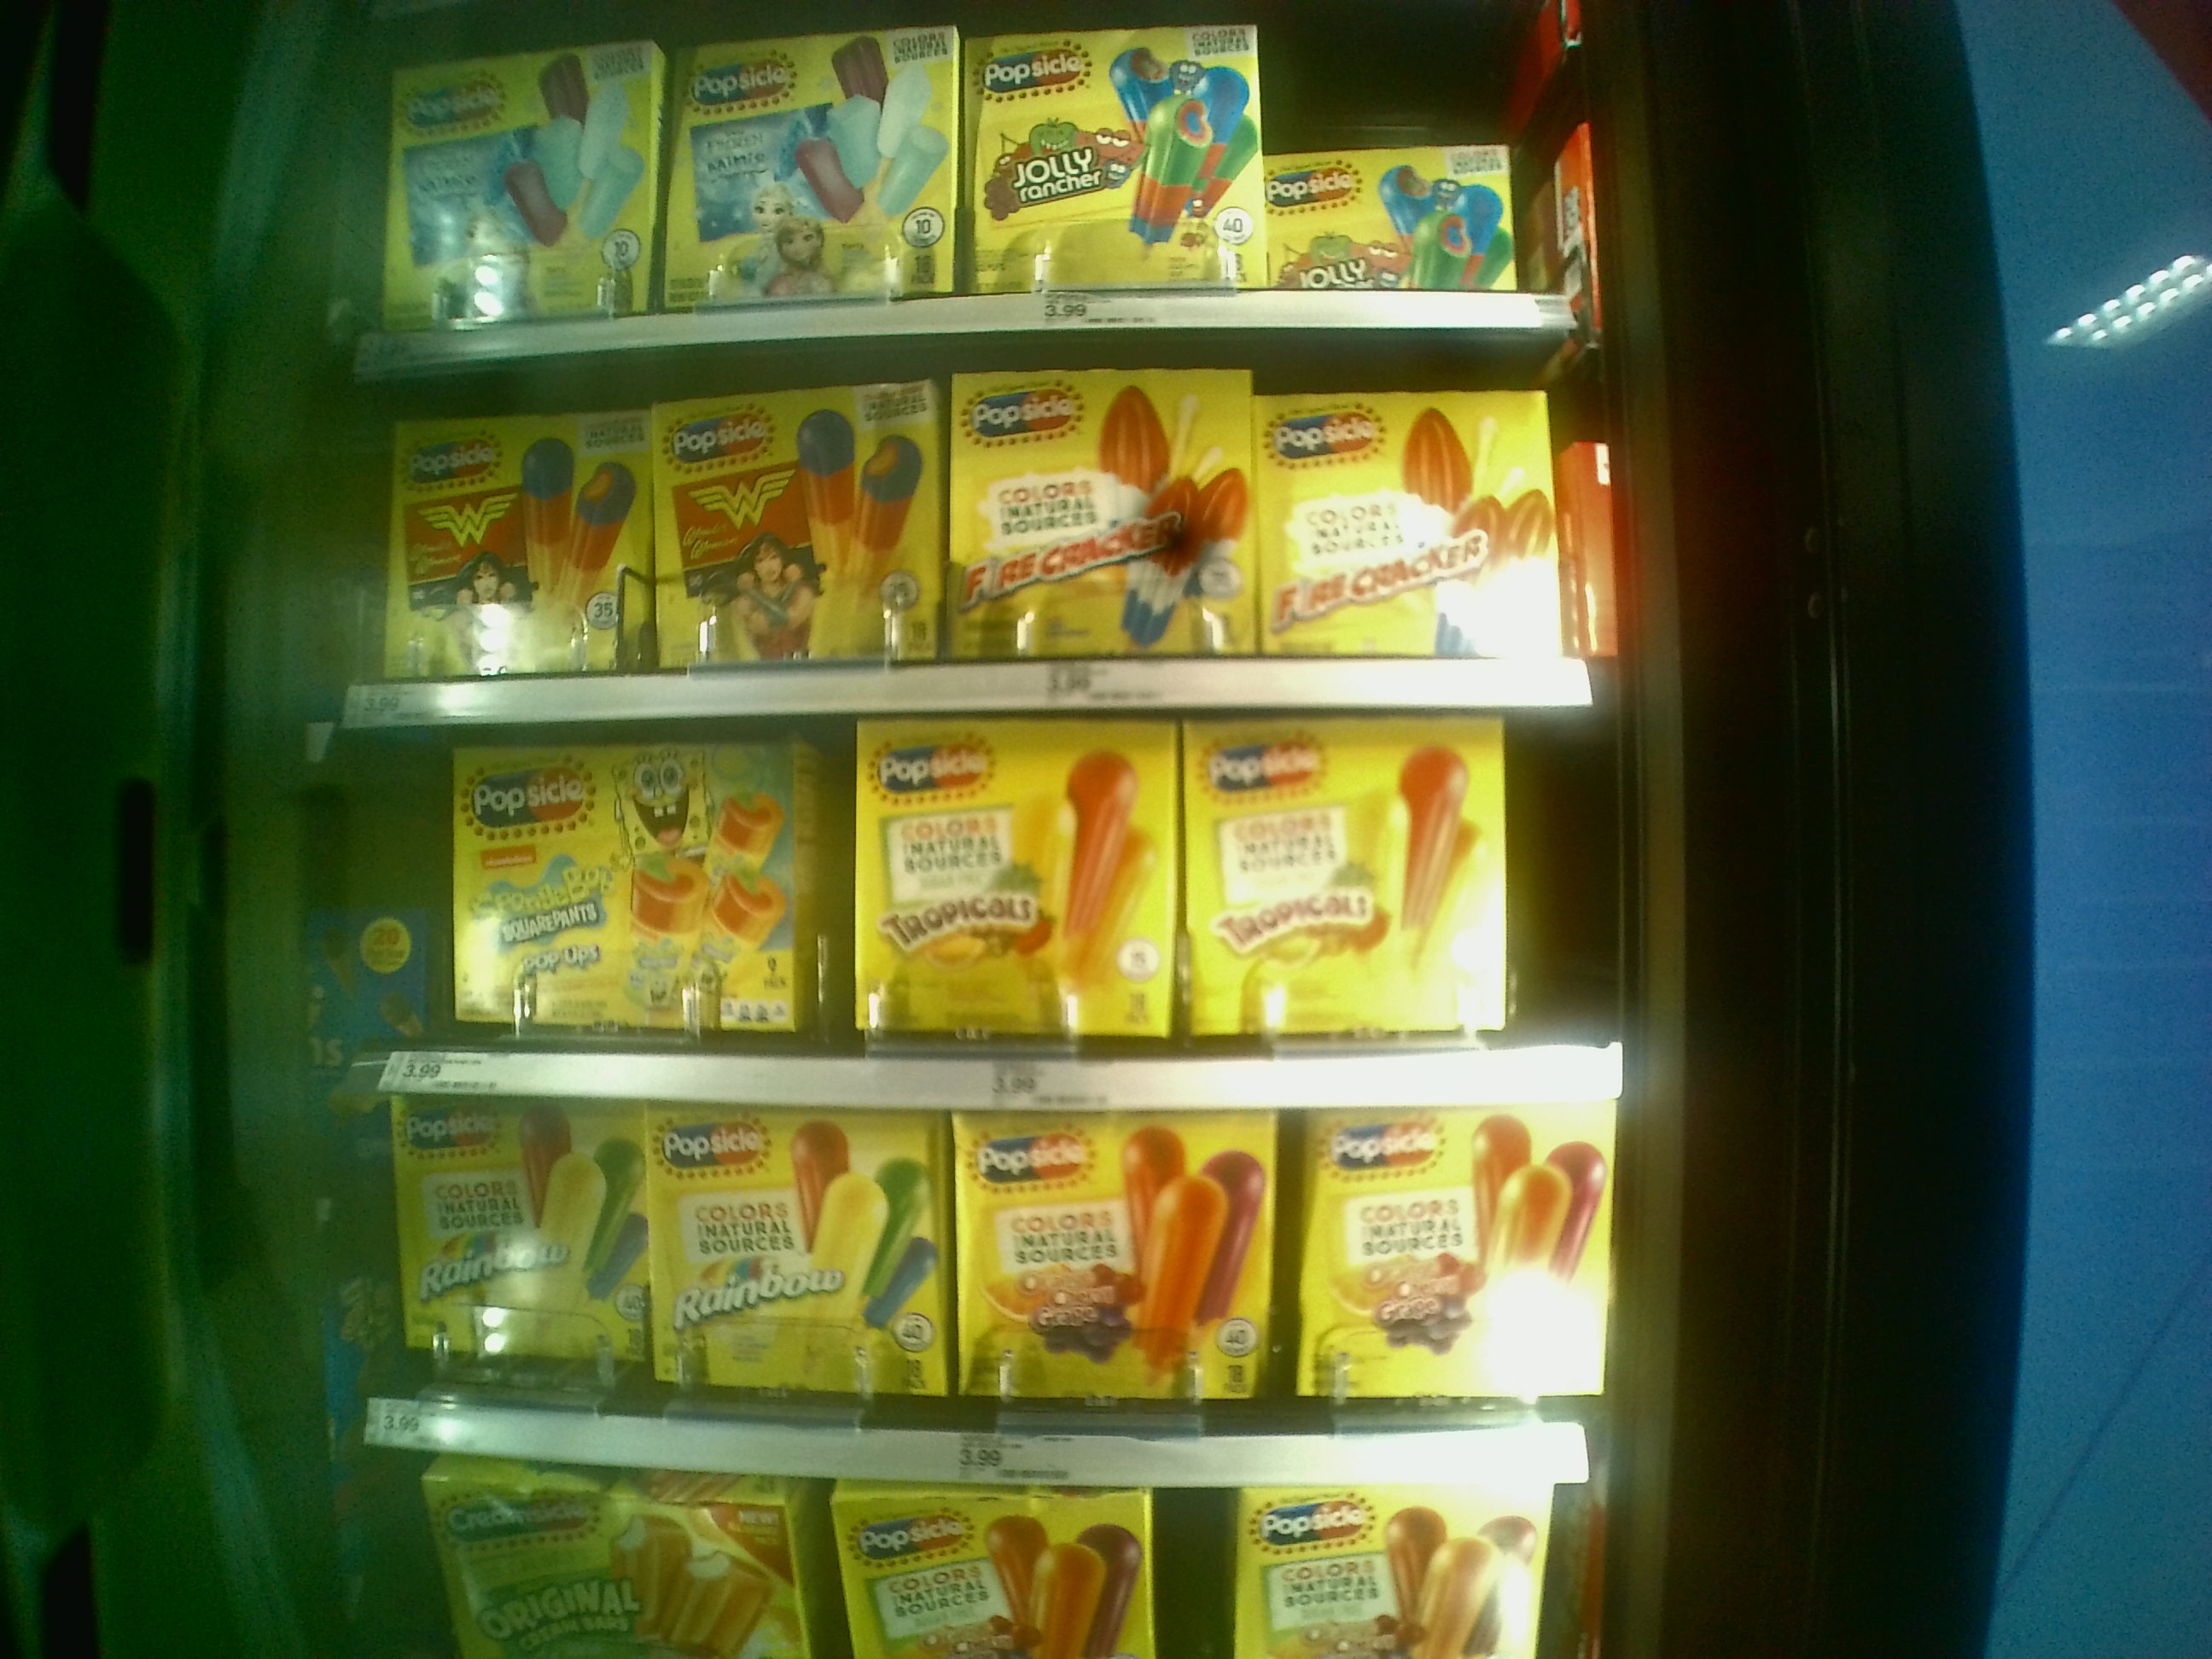frozen-food-shelf: (334, 1114, 1649, 1486), (334, 732, 1622, 1110), (336, 373, 1595, 723)
